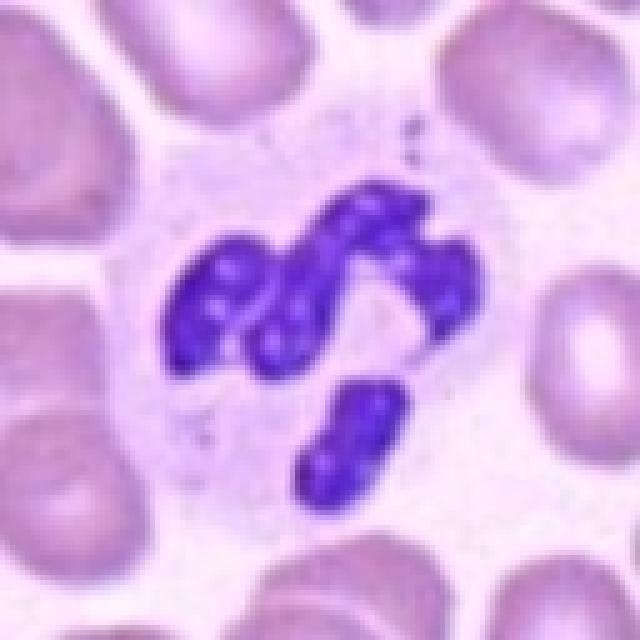neutro: (104, 118, 624, 546)
